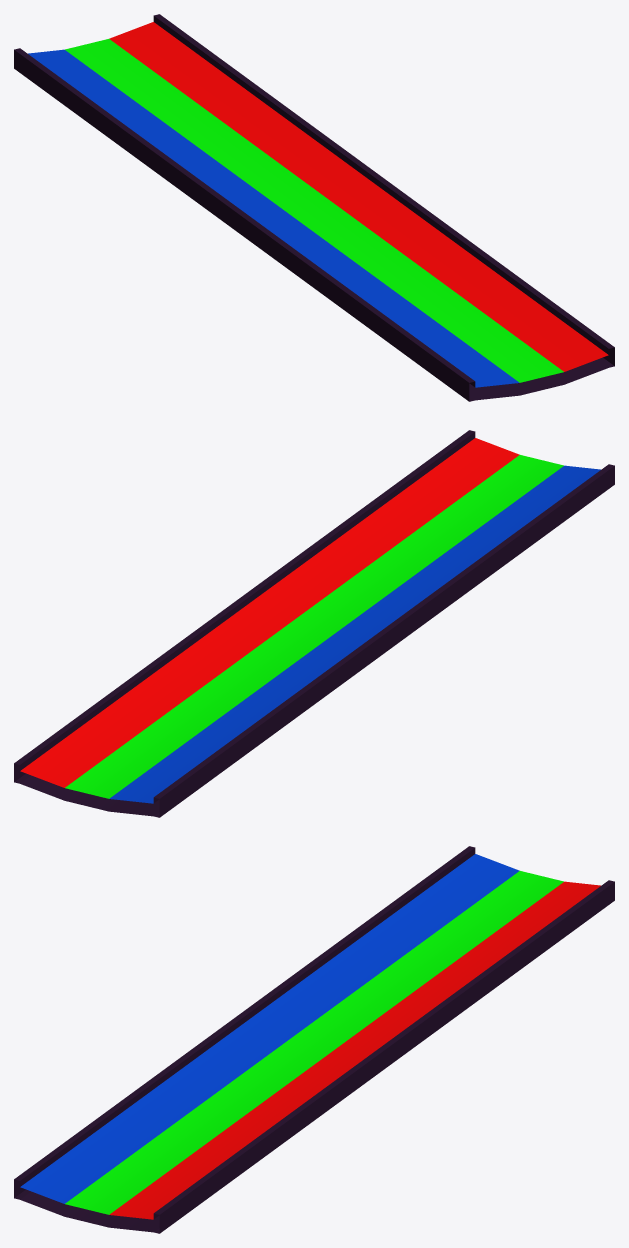
The model's file is RGB_track_cull.obj.
3 views of the same model, one above another, from view 1: azimuth 30°, elevation 25°; view 2: azimuth 150°, elevation 25°; view 3: azimuth 330°, elevation 25° (orthographic).
Size of the model in its own units: 12 by 1.97 by 65.
